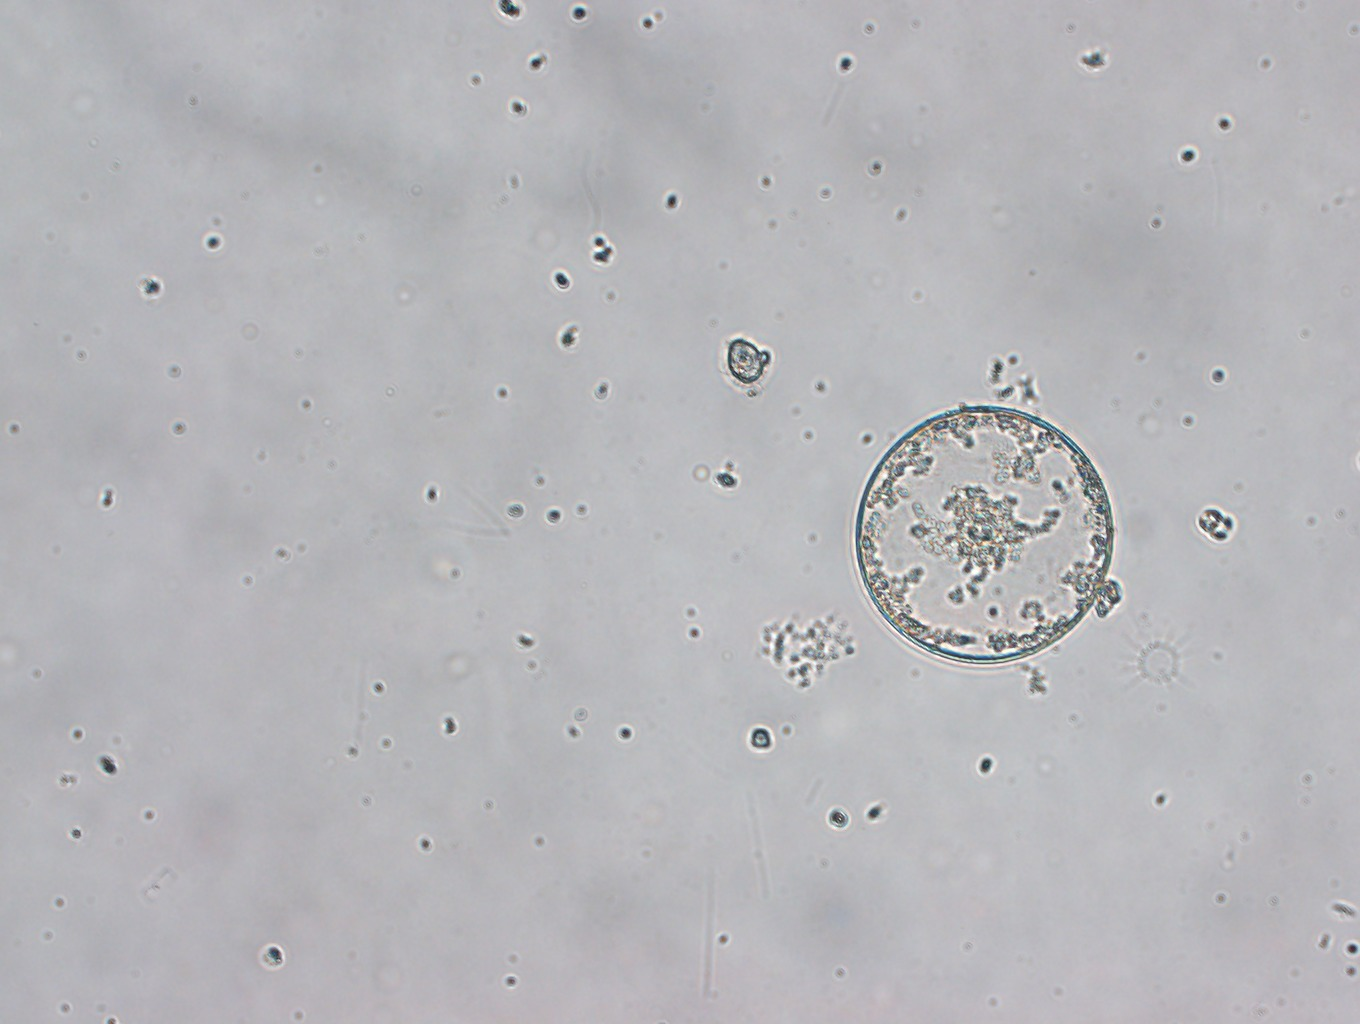coscinodiscus: (851, 394, 1123, 667)
